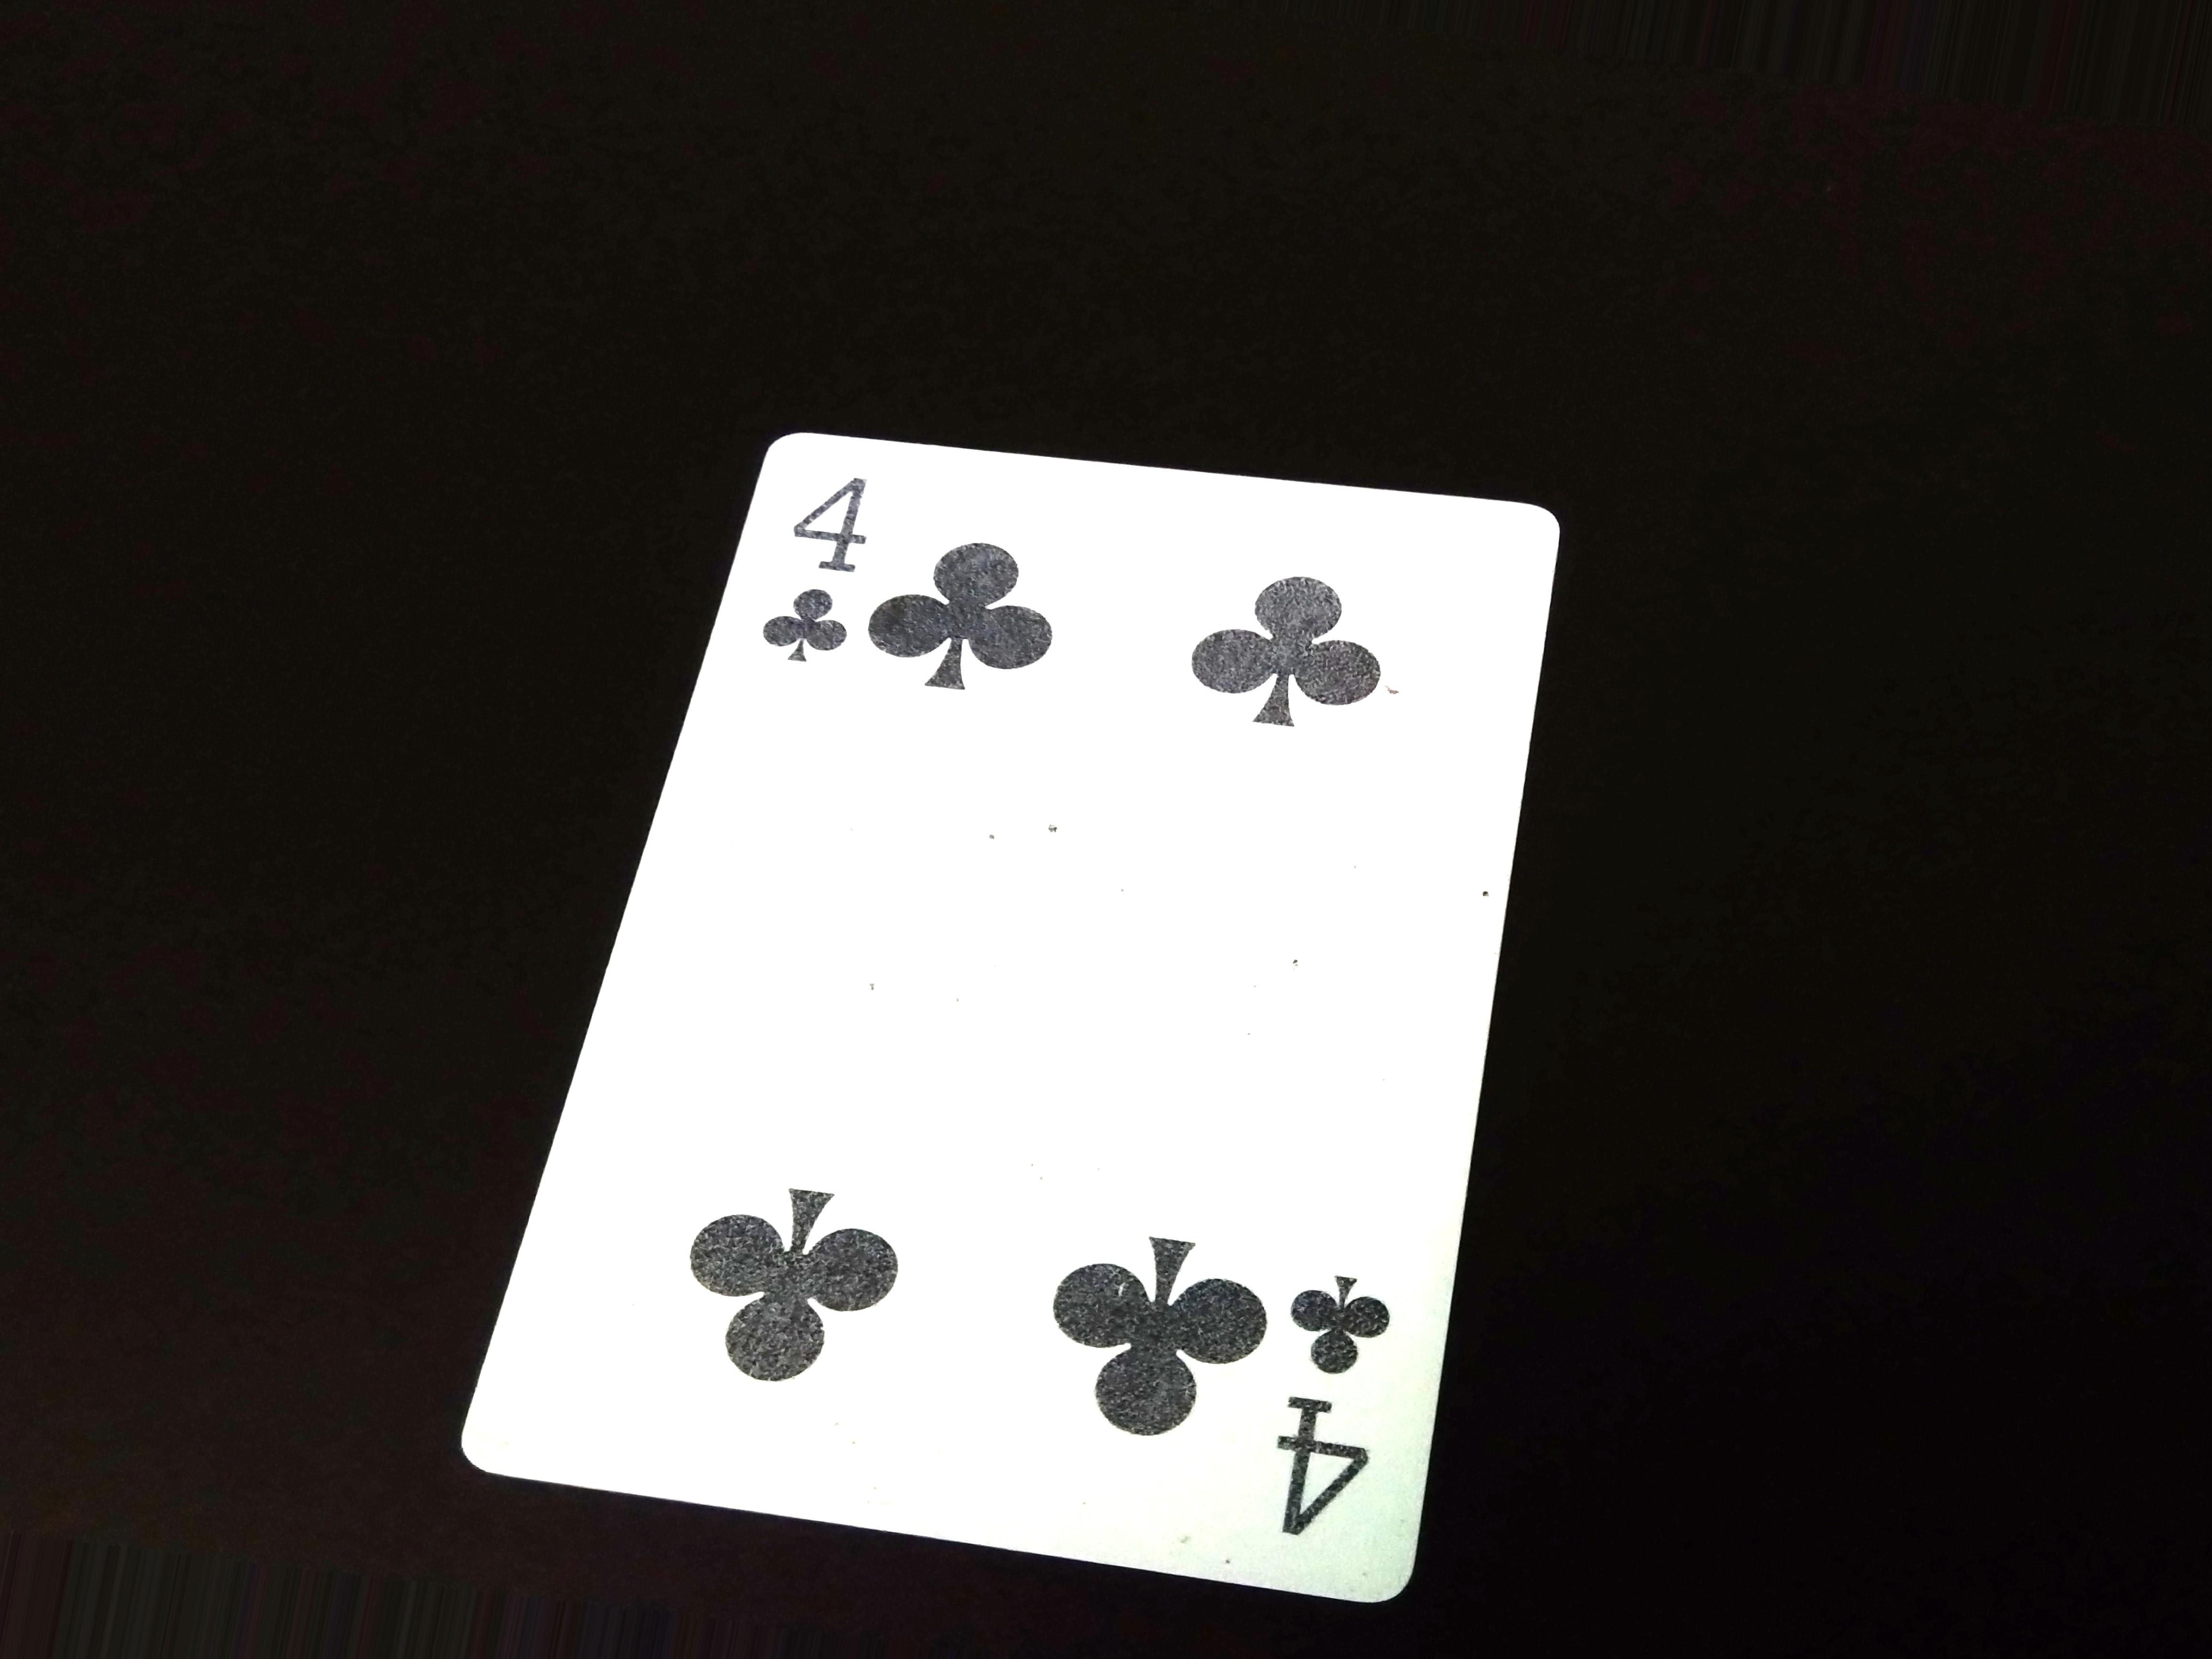4C: (770, 469, 873, 683)
